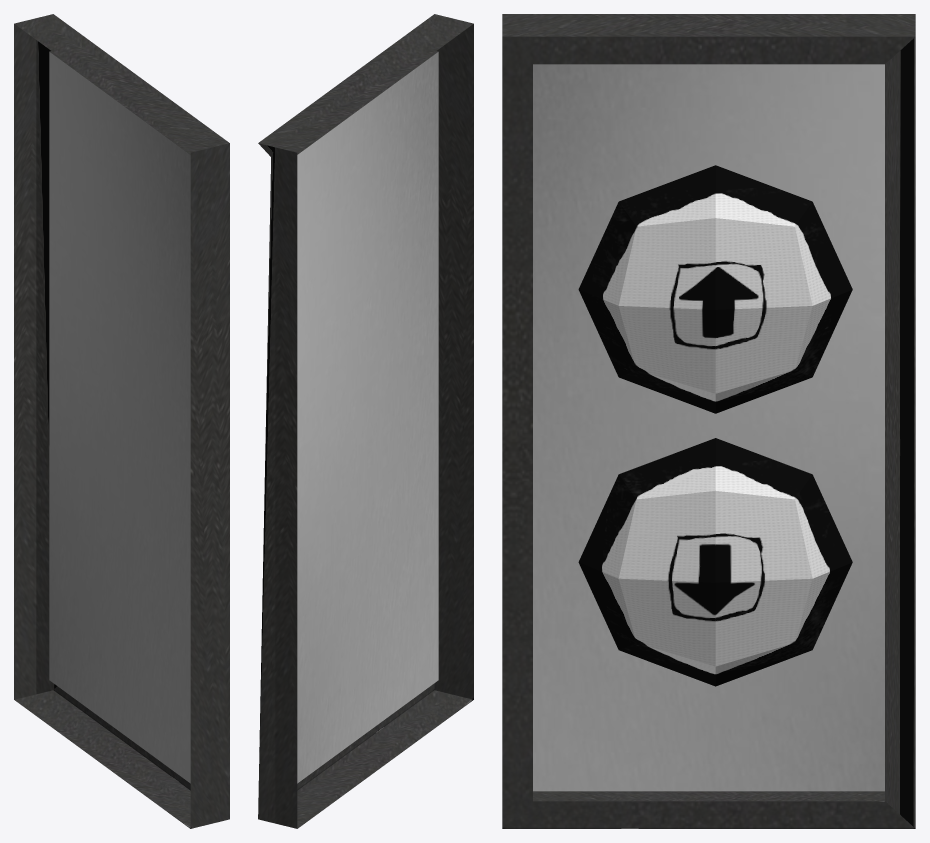
File: MazeGame-OutsideBtns2.glb
3 renders of one model, left to right at view 1: azimuth 30°, elevation 25°; view 2: azimuth 150°, elevation 25°; view 3: azimuth 270°, elevation 25°, orthographic. The views are drawn at different scales.
Parts seen in each view (by area): view 1: FrontBtns; view 2: FrontBtns; view 3: FrontBtns.
Boxes of the visible parts, <box> form: FrontBtns: <box>14,14,229,828</box>; FrontBtns: <box>258,14,473,828</box>; FrontBtns: <box>502,14,915,828</box>.
Size of what is drawn, in the model's own units: 0.1018 by 1.13 by 0.5339.
1 material, 1 textured.
